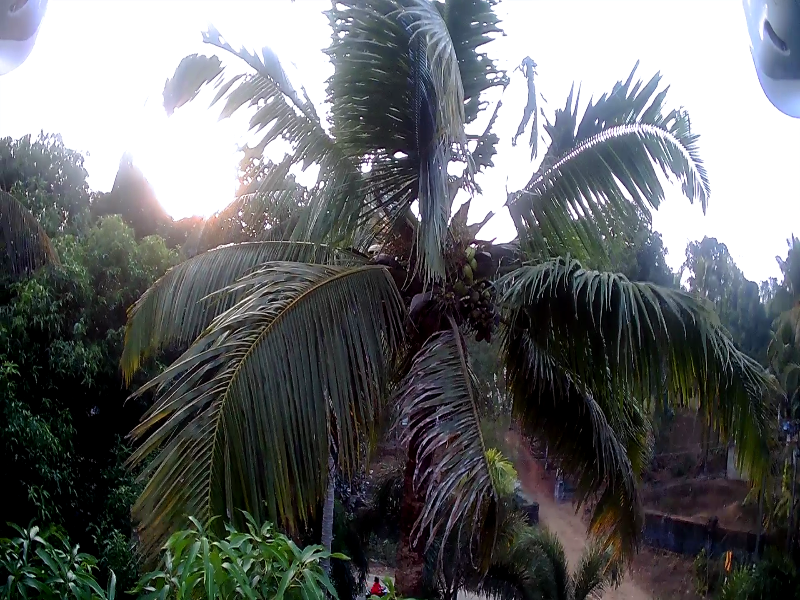coconut: (461, 246, 474, 257), (461, 265, 468, 282), (484, 286, 493, 297), (473, 290, 480, 297)
